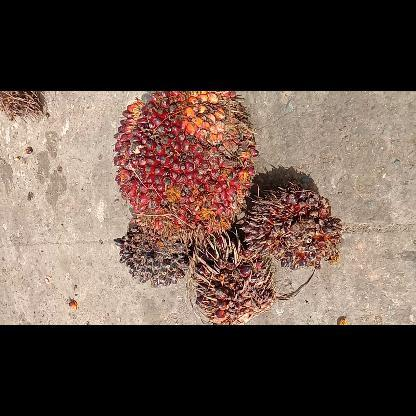TBS abnormal: (239, 180, 345, 272), (190, 234, 276, 324), (111, 216, 191, 288)
TBS masak: (111, 92, 259, 244)
